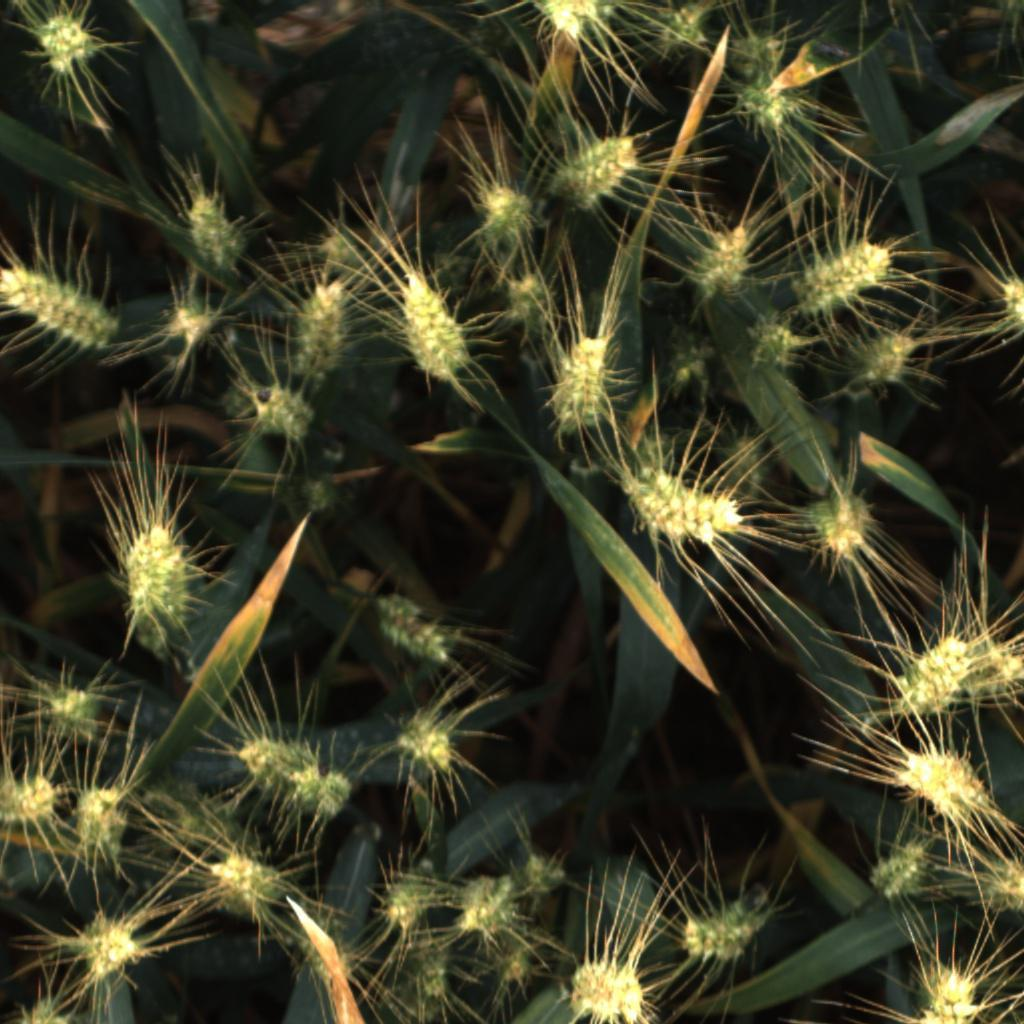0-0: (0, 255, 122, 358), (612, 463, 749, 551), (392, 271, 478, 381), (117, 522, 194, 638), (365, 586, 460, 677), (552, 122, 649, 211), (793, 236, 897, 316), (892, 627, 980, 718), (886, 747, 995, 820), (288, 277, 362, 381), (550, 327, 618, 436), (179, 178, 253, 276), (669, 893, 760, 964), (802, 485, 878, 567), (202, 852, 289, 923), (849, 329, 937, 397), (224, 731, 316, 796), (566, 953, 650, 1024), (64, 783, 135, 867), (690, 214, 757, 303), (69, 911, 143, 985), (861, 837, 937, 909), (905, 959, 984, 1024), (723, 83, 803, 144), (950, 854, 1024, 917), (399, 716, 465, 786), (287, 761, 358, 825), (722, 25, 795, 87), (400, 946, 458, 1024), (497, 268, 559, 339), (38, 680, 112, 739), (252, 382, 319, 446), (476, 185, 536, 255), (741, 317, 812, 376), (532, 0, 617, 49), (373, 867, 435, 933), (455, 873, 515, 941), (0, 767, 64, 830), (37, 16, 100, 77), (658, 330, 710, 403), (141, 771, 211, 825), (157, 288, 218, 347), (725, 428, 767, 510), (516, 846, 573, 906), (174, 813, 255, 853), (487, 930, 539, 988), (971, 641, 1024, 697), (215, 372, 267, 424), (647, 3, 707, 48), (125, 610, 171, 663), (428, 249, 480, 294), (314, 225, 362, 271), (631, 424, 674, 475), (993, 265, 1024, 333), (12, 994, 75, 1024), (297, 477, 334, 513)
